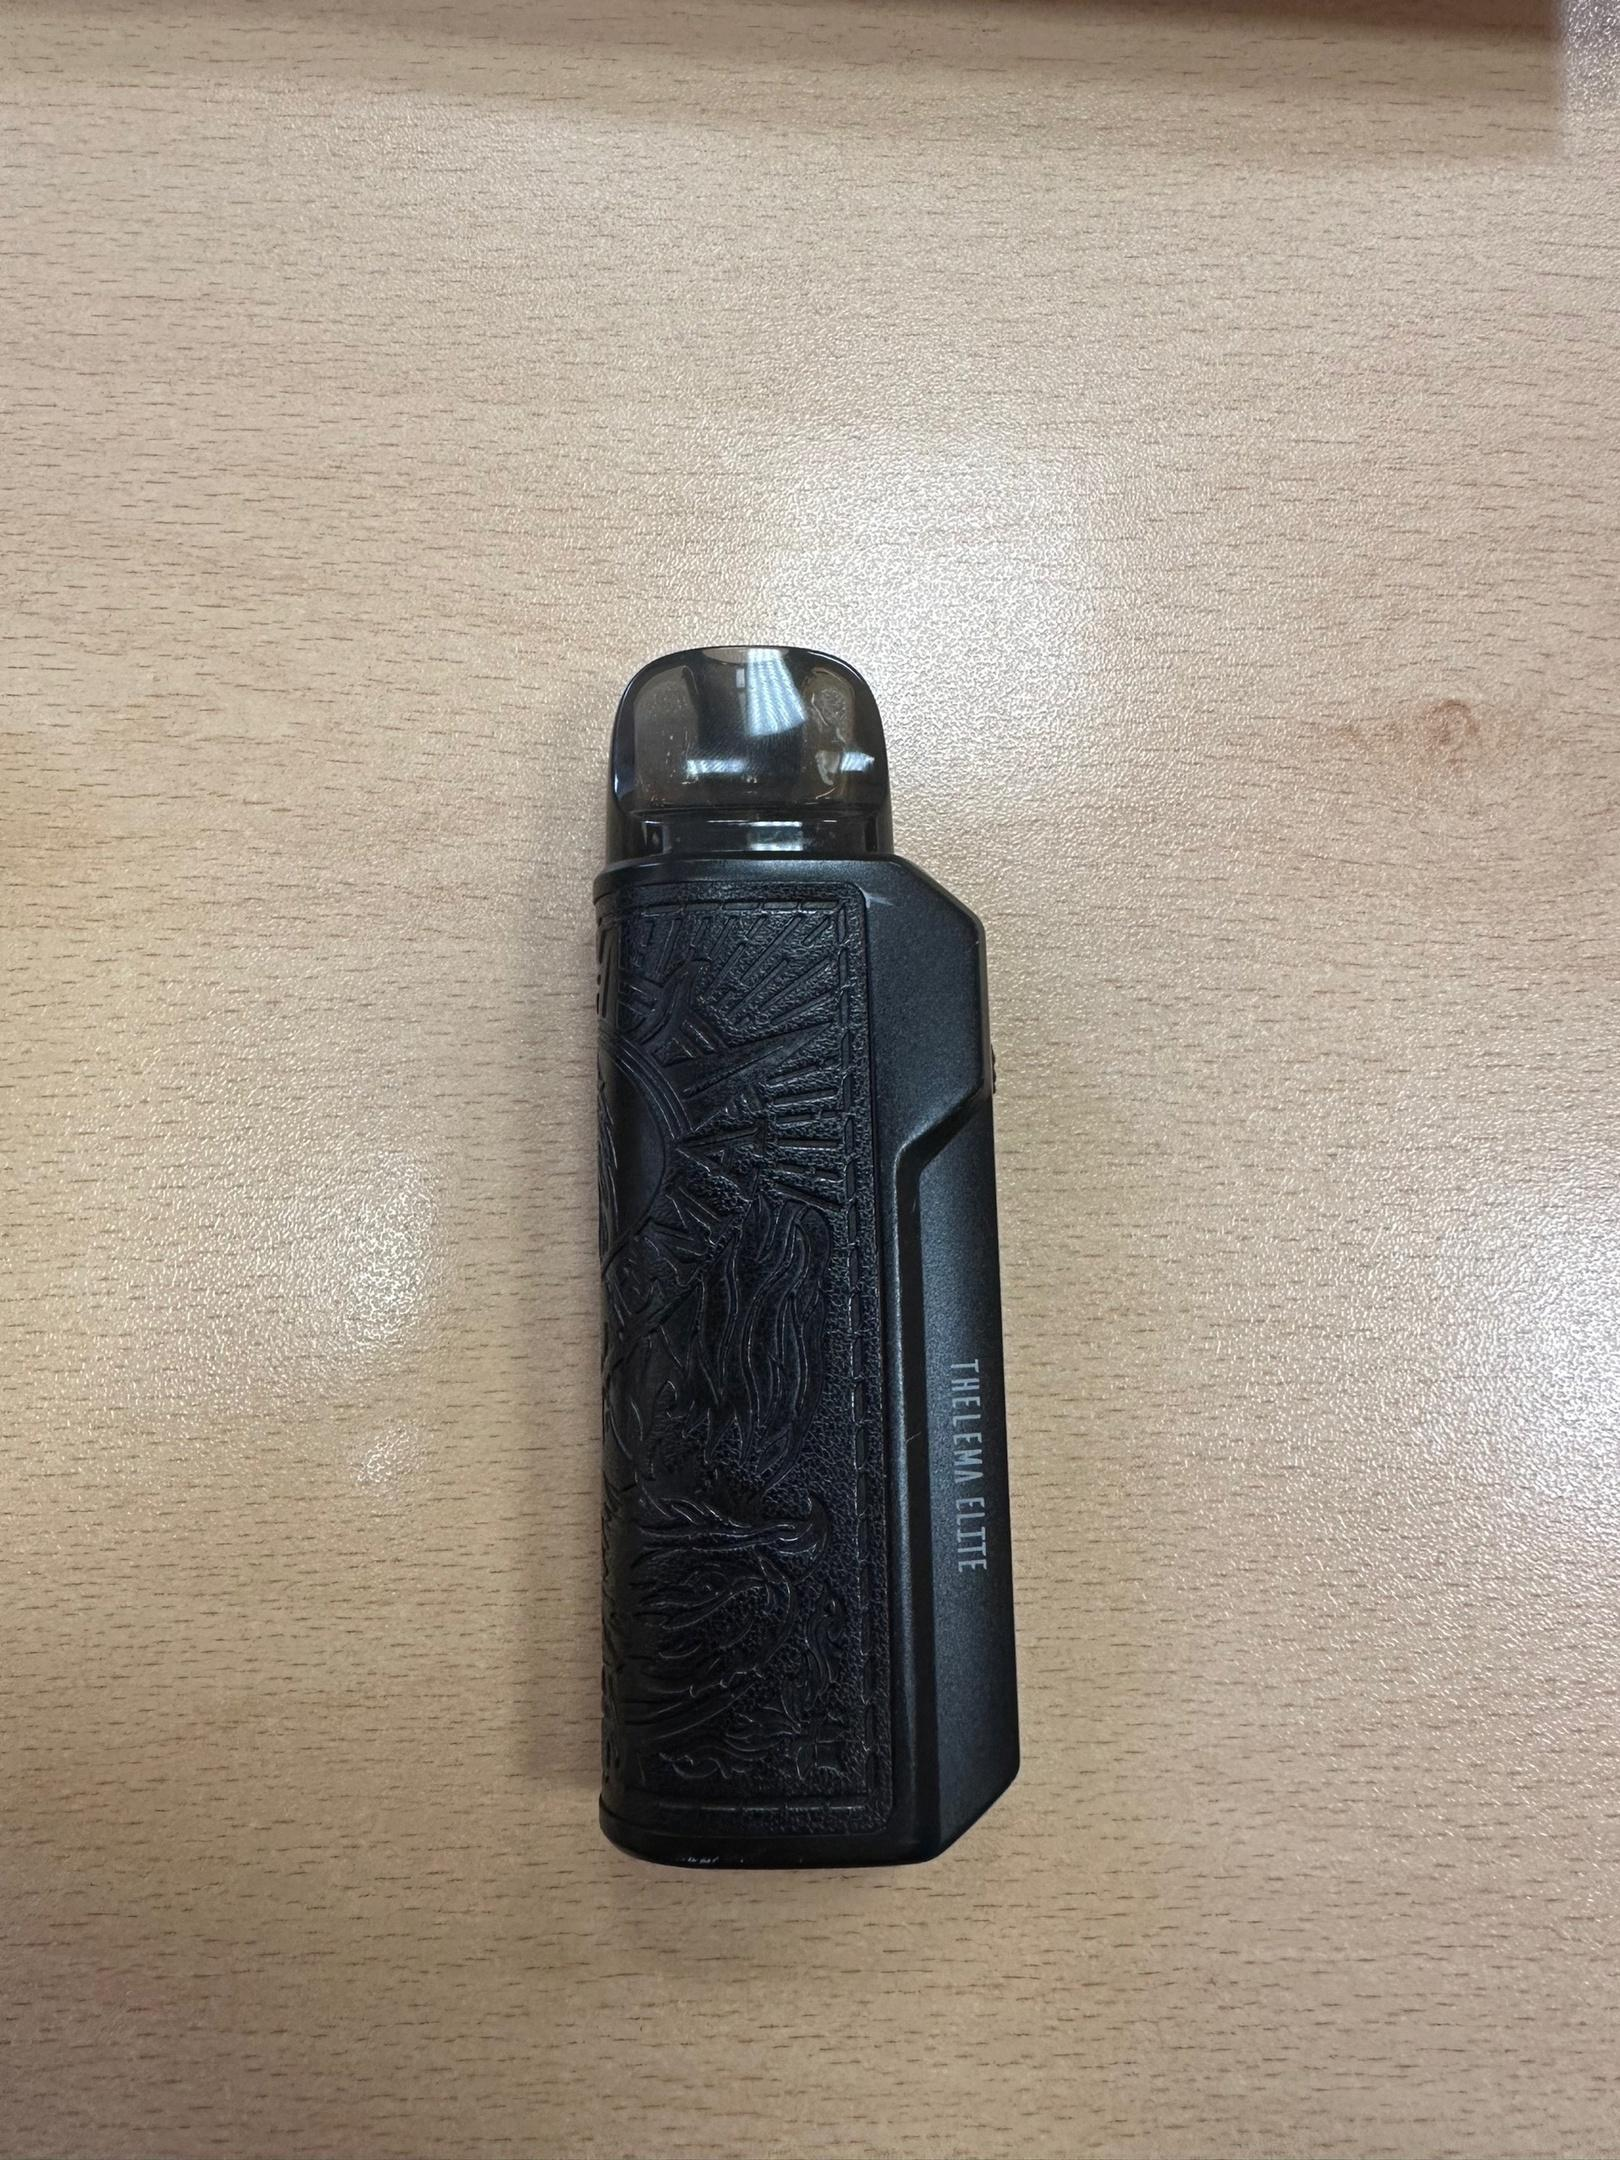Vape: (594, 645, 1018, 1866)
